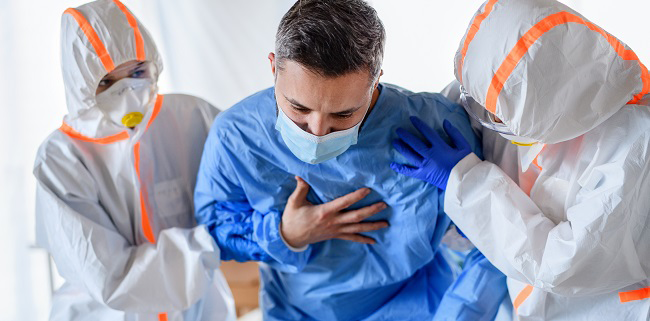Coverall: (453, 1, 649, 321), (196, 96, 475, 318), (31, 1, 221, 319)
Gloves: (389, 117, 471, 189), (213, 224, 274, 263)
Goggles: (455, 84, 509, 132), (95, 60, 166, 92)
with_mask: (275, 109, 360, 166), (96, 77, 156, 128), (498, 130, 543, 151)
